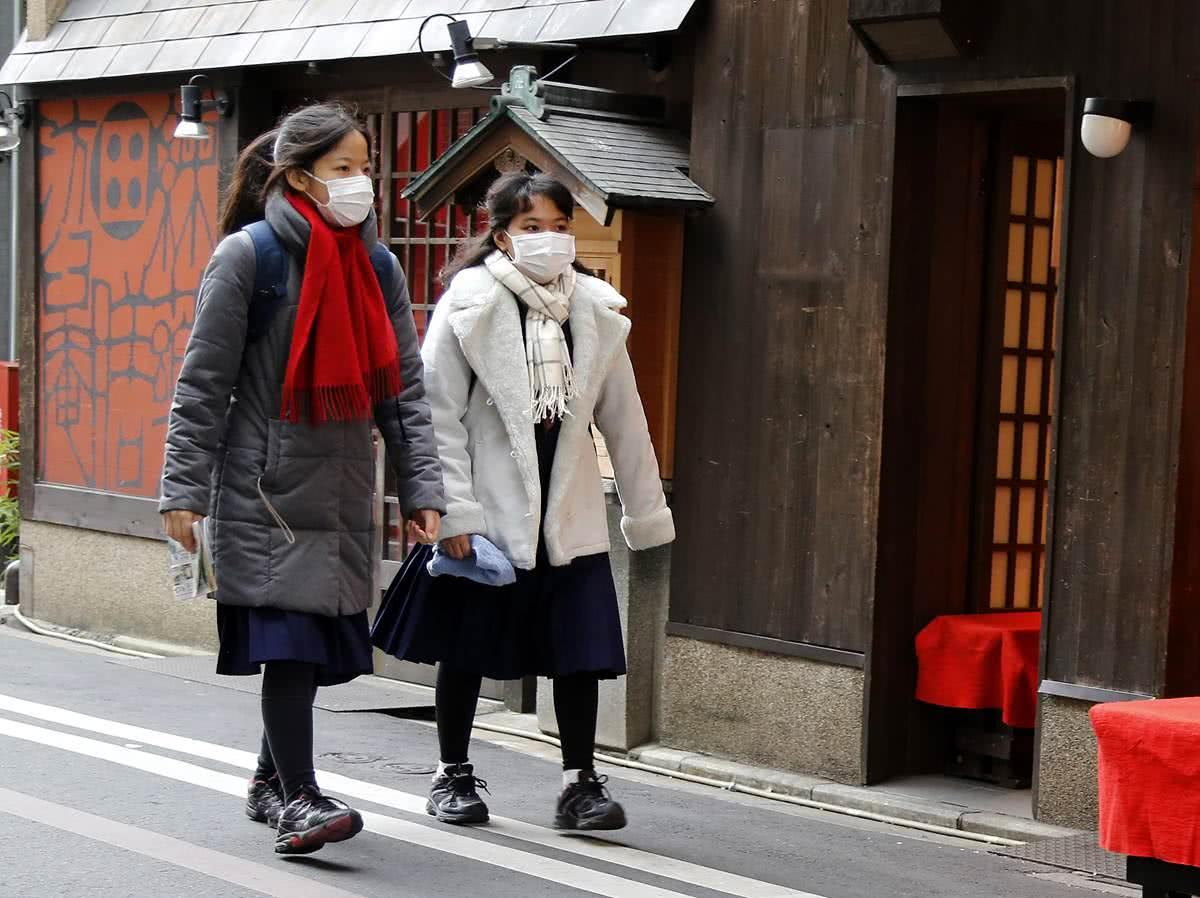mask: (307, 147, 434, 243), (488, 202, 602, 290)
